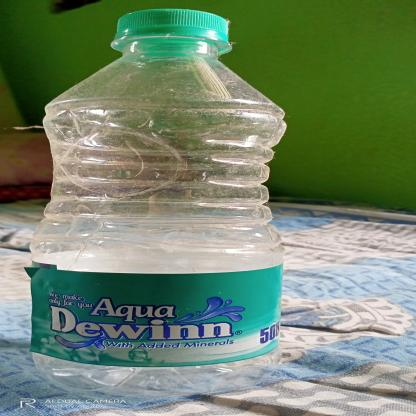bottle: (25, 8, 295, 399)
